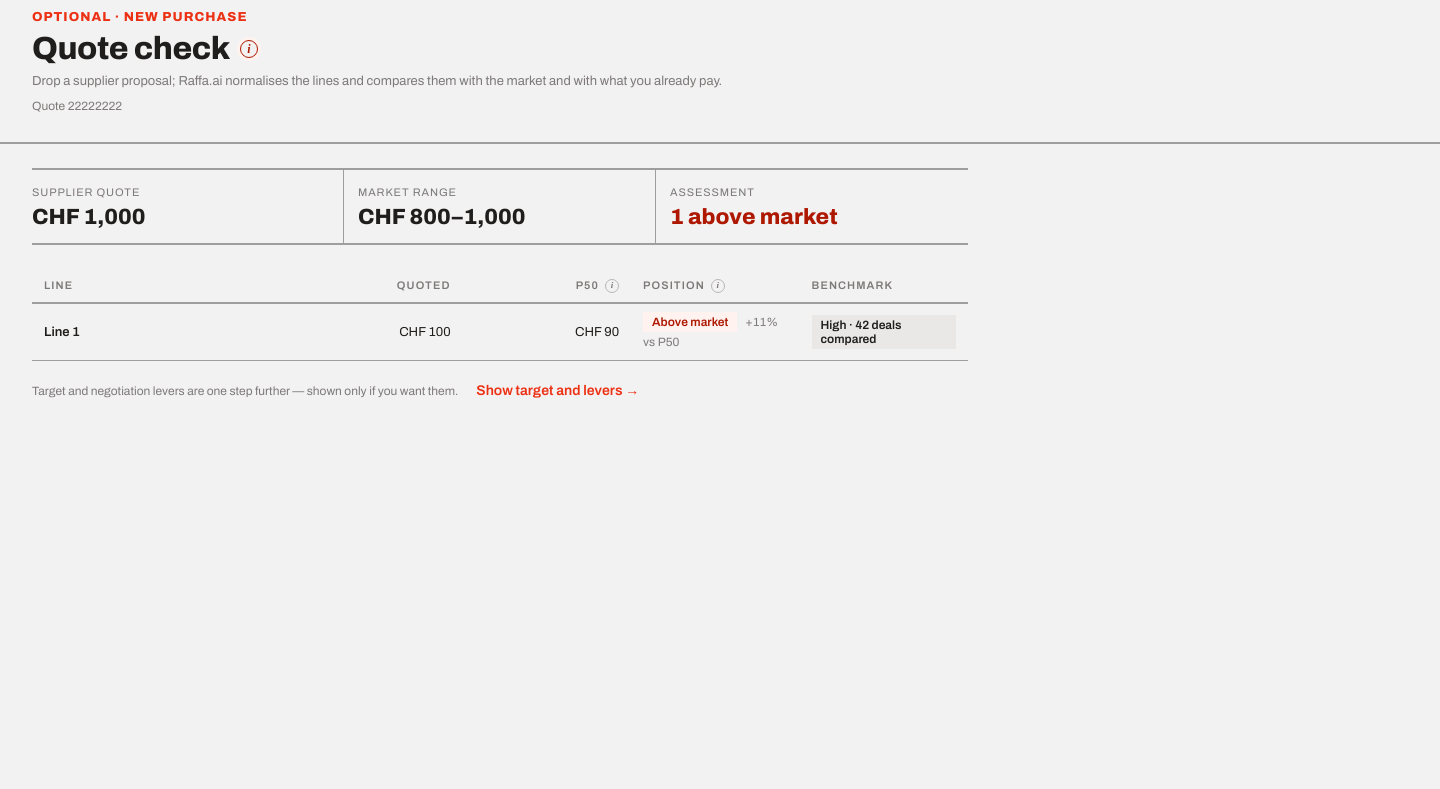
Test case: QuoteCheckRoute (V2, ADR-024 / screens-v2.md #9) › negotiation outcome capture (one step further) › renders a server-supplied outcome on mount and writes nothing to sessionStorage
Expected: the text "Target and negotiation levers are one step further — shown only if you want them." is shown, [32, 384, 458, 398]
Click the button "Show target and levers →" at (558, 392), box [470, 373, 645, 410]
(page scrolled)
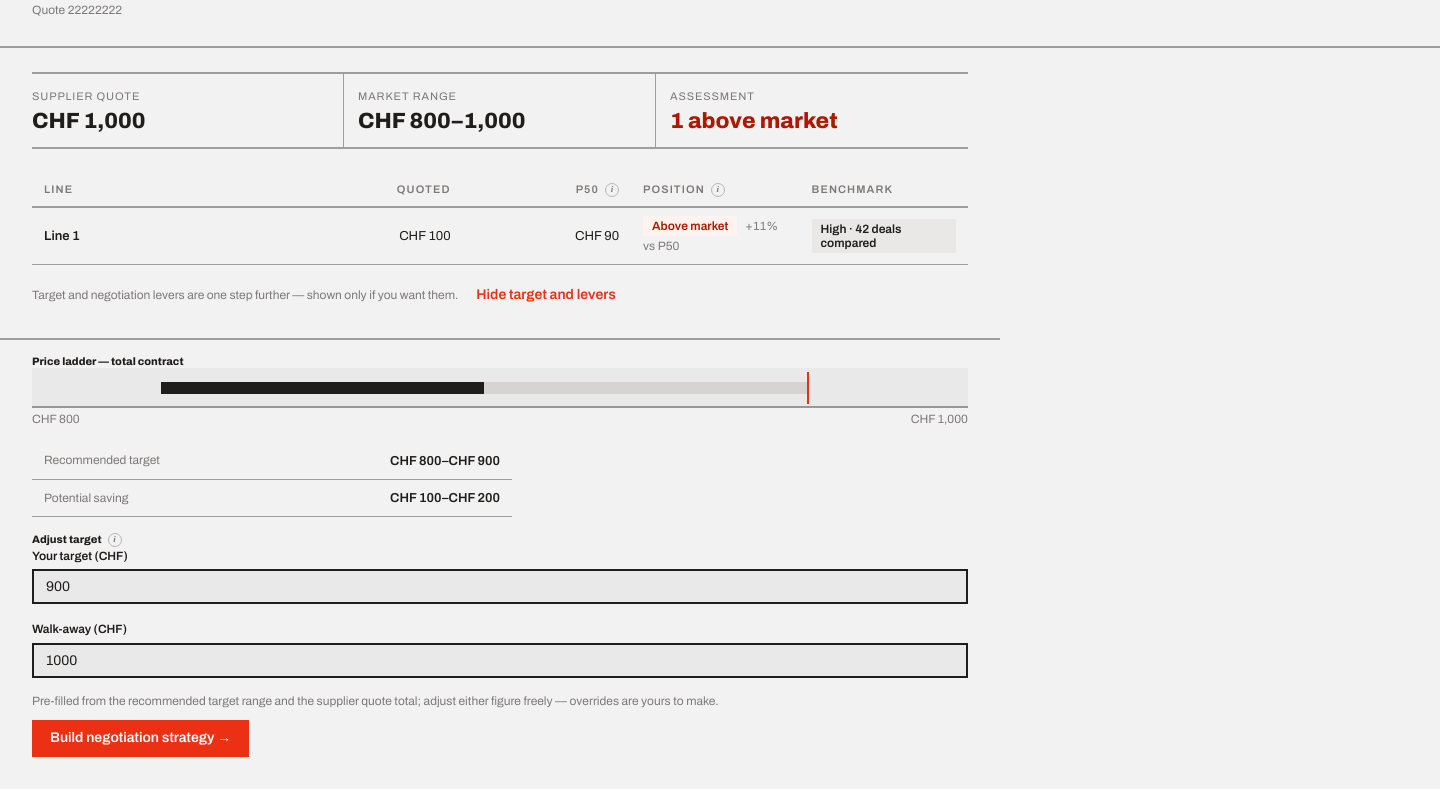
Click the button "Build negotiation strategy →" at (141, 739), box [32, 720, 249, 757]
(page scrolled)
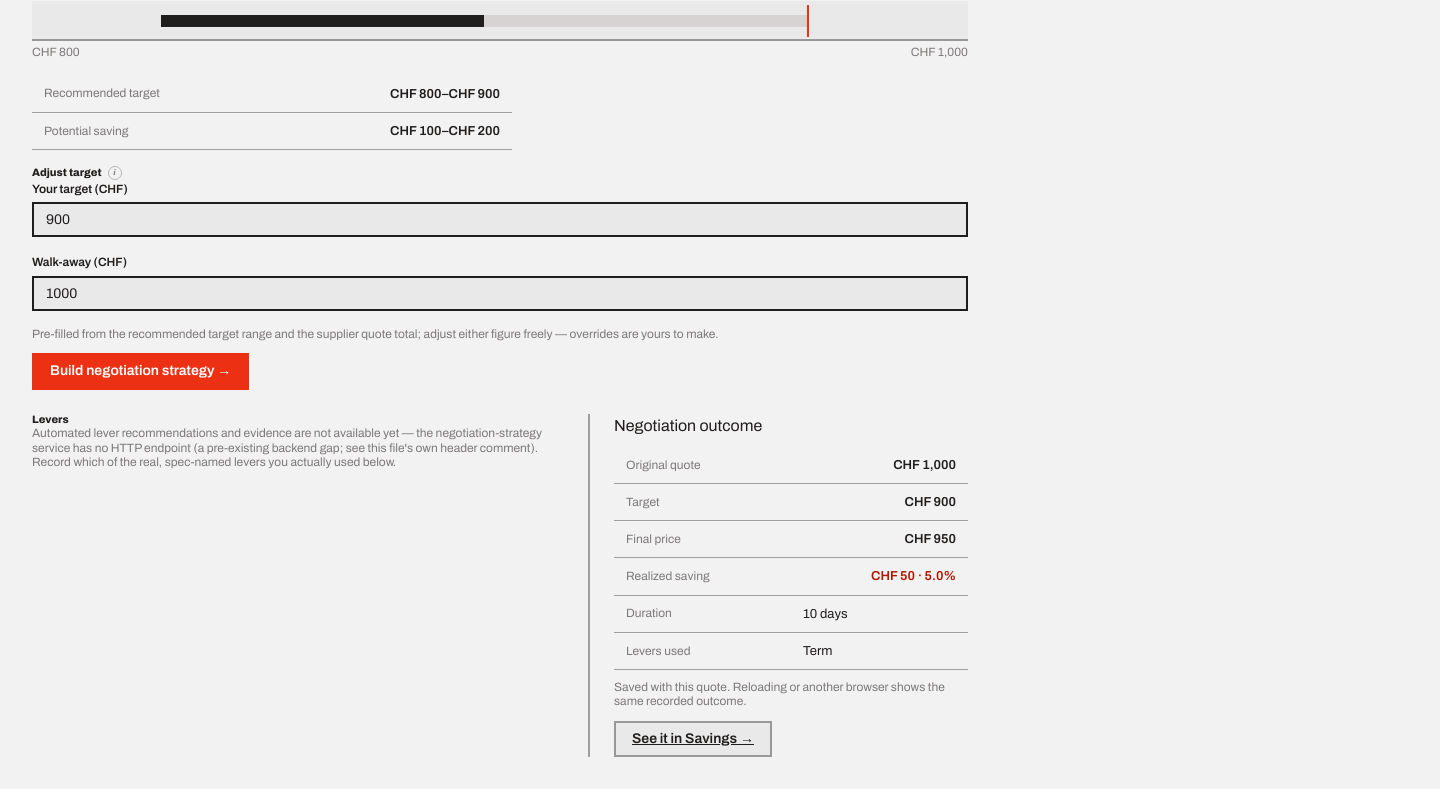
Now the text "Negotiation outcome" is shown, box [614, 417, 762, 434]
Now the text "CHF 50 · 5.0%" is shown, box [791, 558, 968, 595]
